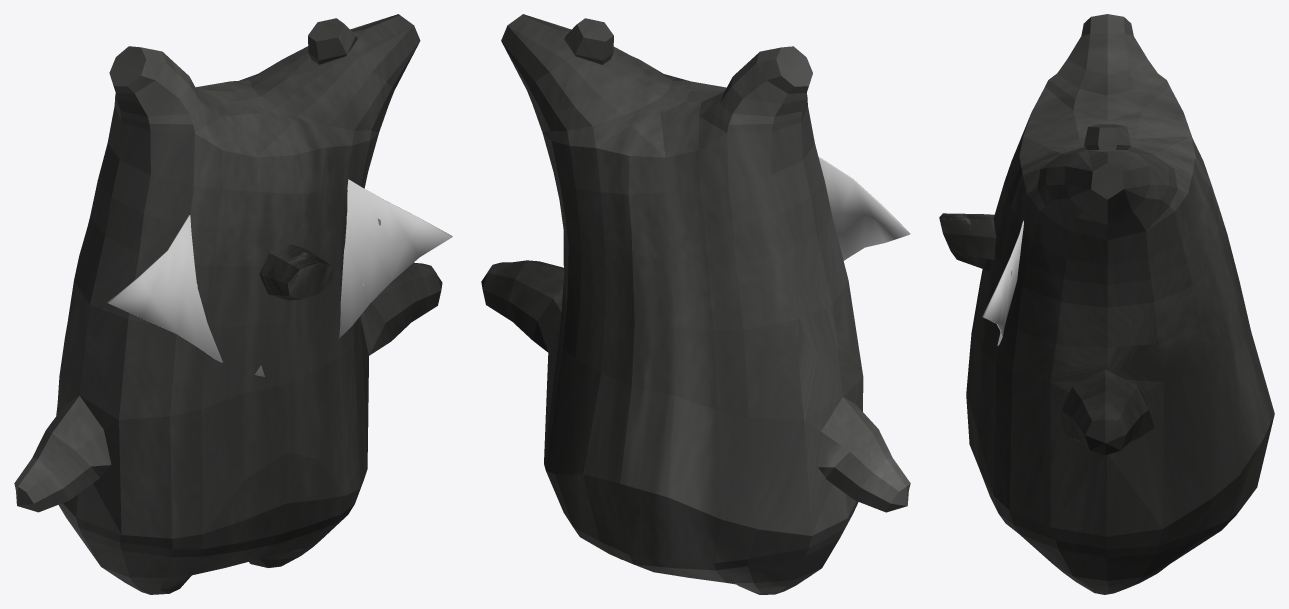
File: frame_0071.obj
The picture shows the model from 3 angles, left to right: view 1: azimuth 30°, elevation 25°; view 2: azimuth 150°, elevation 25°; view 3: azimuth 270°, elevation 25°; orthographic projection. The views are drawn at different scales.
Parts seen in each view (by area): view 1: korok, leaf, nose; view 2: korok, leaf; view 3: korok, nose, leaf.
Part boxes in pixels (x1,y1,x2,y2): korok: (14, 14, 442, 594); leaf: (107, 179, 452, 376); nose: (259, 243, 332, 300); korok: (481, 14, 910, 594); leaf: (818, 156, 910, 260); korok: (966, 14, 1274, 594); nose: (939, 213, 996, 270); leaf: (982, 220, 1023, 345).
Bounding box in the file's own units: 1.75 × 2.16 × 1.27.
